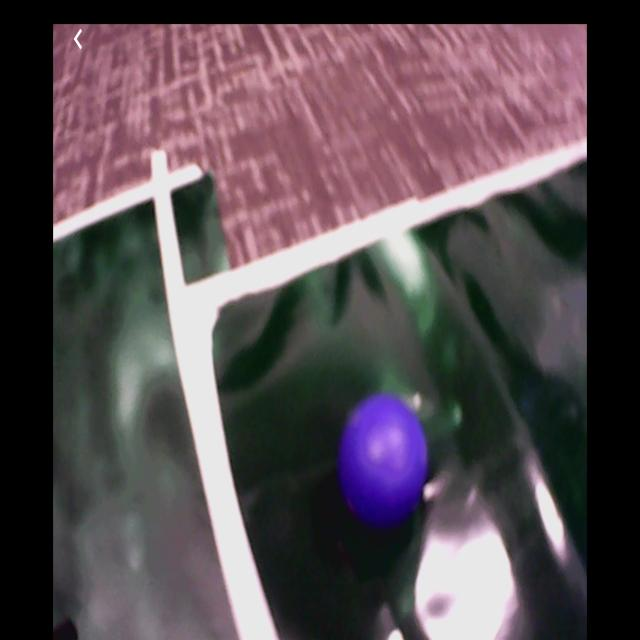ball: (341, 397, 428, 520)
